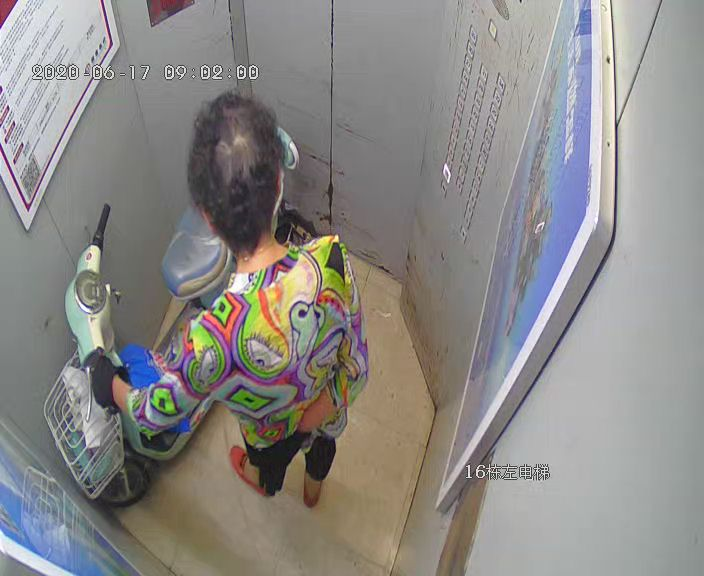Electric-bicycle: (41, 124, 298, 493)
